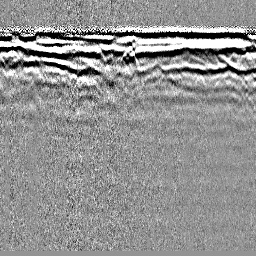cavity: (118, 43, 139, 67)
